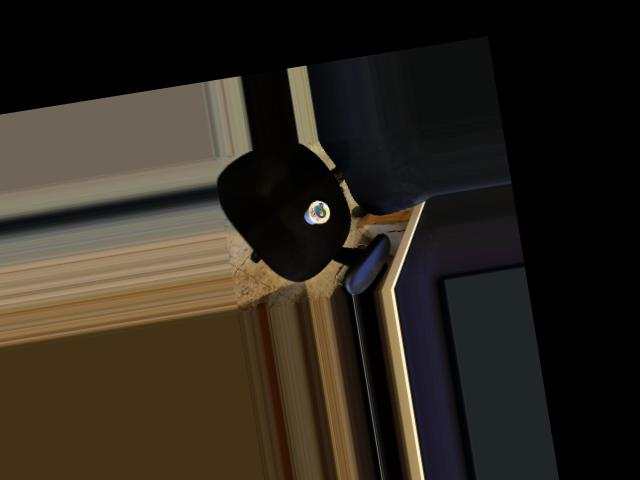cotage: (295, 194, 333, 227)
